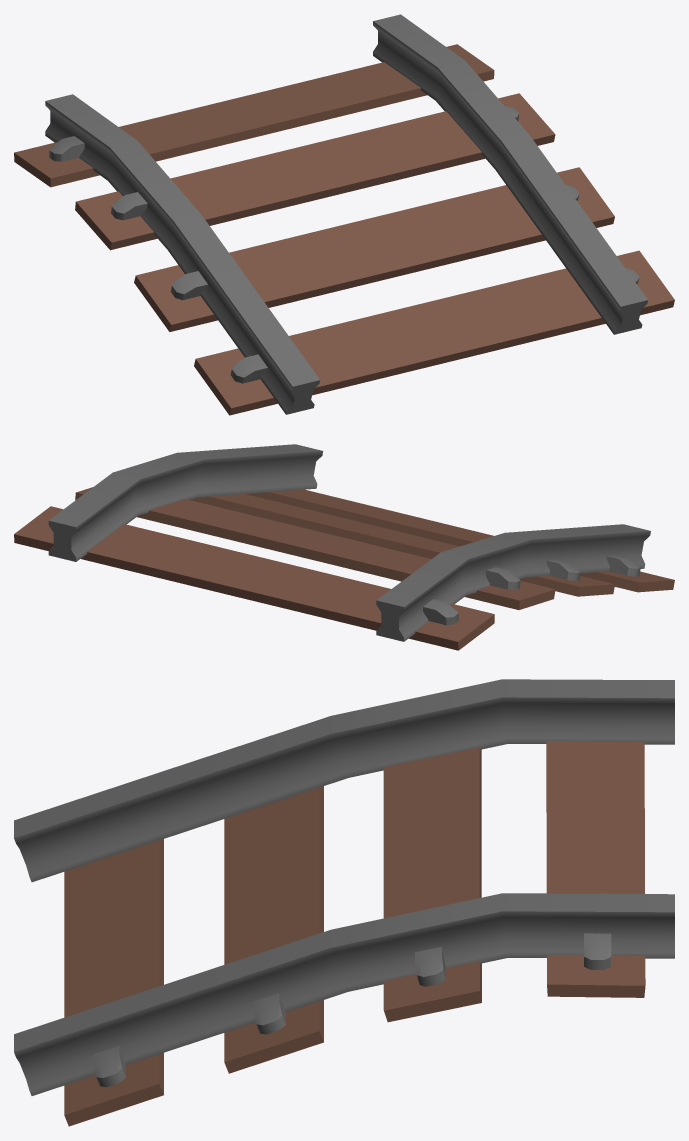
File: Trilho_off_UP.fbx
The picture shows the model from 3 angles, top to bottom: view 1: azimuth 30°, elevation 25°; view 2: azimuth 150°, elevation 25°; view 3: azimuth 270°, elevation 25°; orthographic projection. The views are drawn at different scales.
Visible parts, largest first — view 1: Trilho_off_UP; view 2: Trilho_off_UP; view 3: Trilho_off_UP.
Boxes of the visible parts, left/top/right/bottom form: Trilho_off_UP: left=14, top=14, right=674, bottom=415; Trilho_off_UP: left=14, top=444, right=674, bottom=650; Trilho_off_UP: left=14, top=679, right=674, bottom=1126.
Bounding box in the file's own units: 203 × 60.73 × 196.
